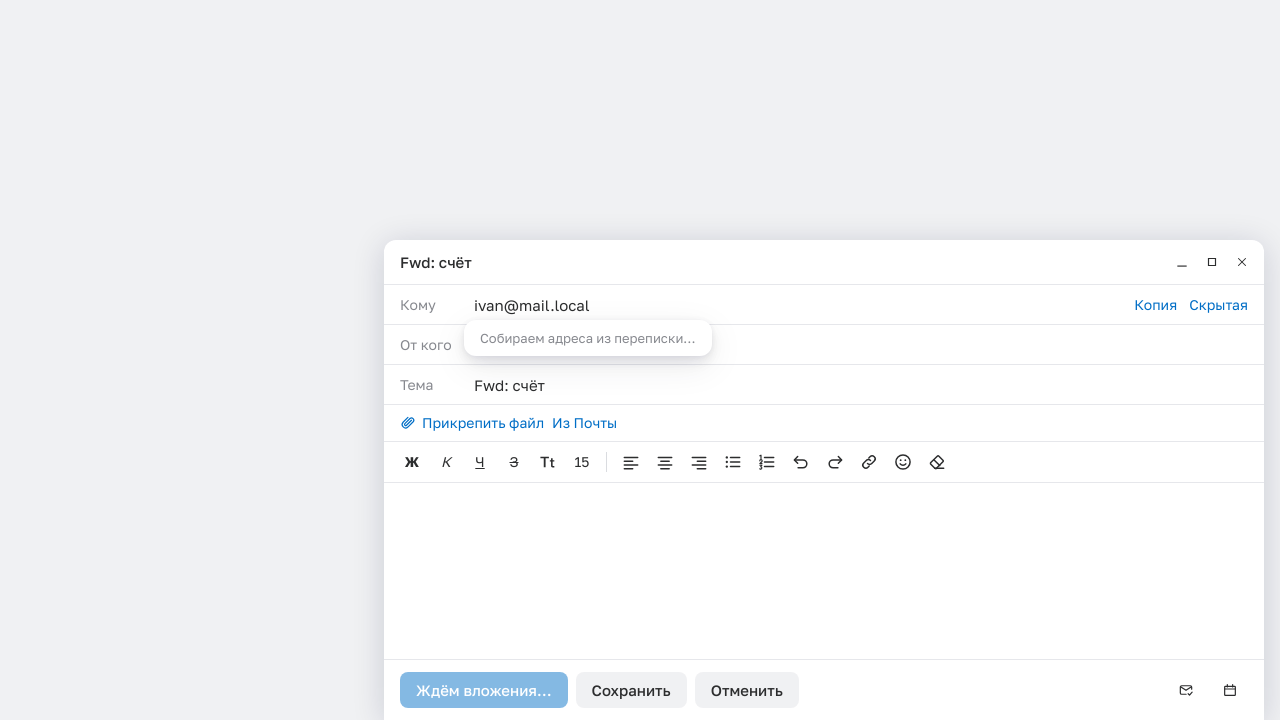
Test: отправка и недоехавшие вложения › пересылка ждёт перенос вложений исходного письма
This screenshot has width=1280, height=720.
Step 1. Click the button "Ждём вложения…" → click(484, 690), box x1=400 y1=672 x2=568 y2=708
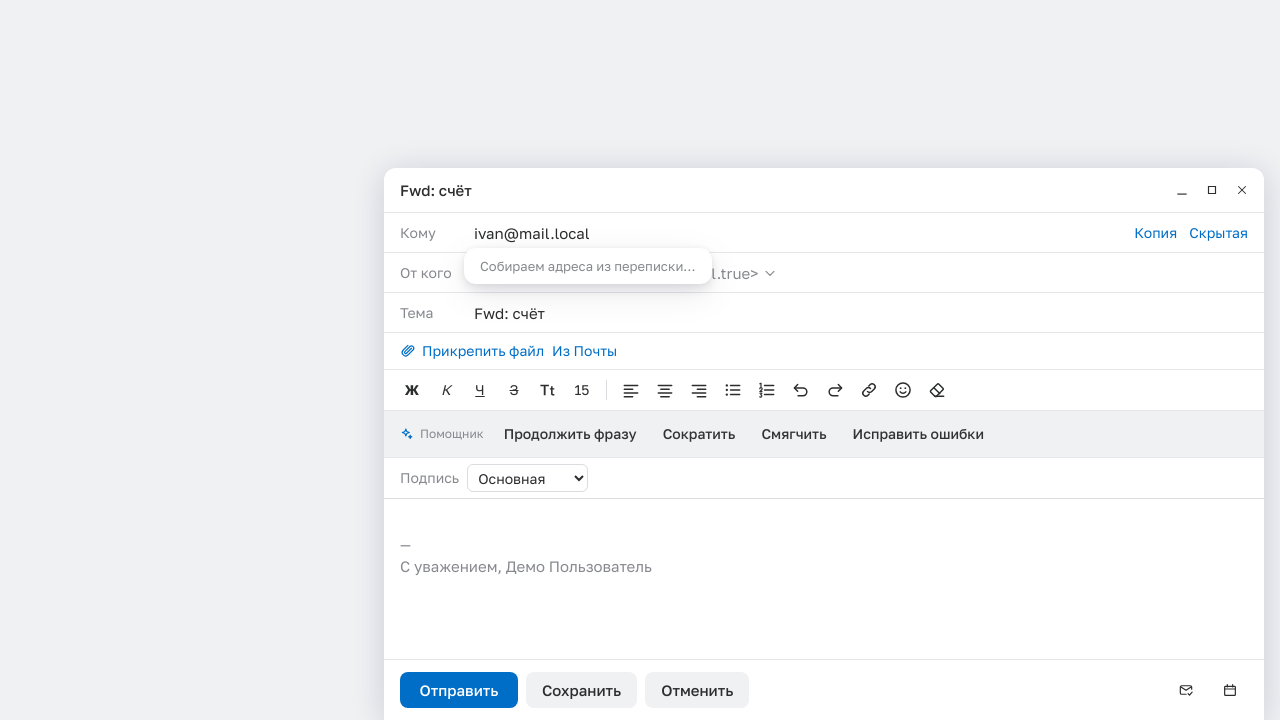
Now the button "Отправить" is enabled, box x1=400 y1=672 x2=518 y2=708
